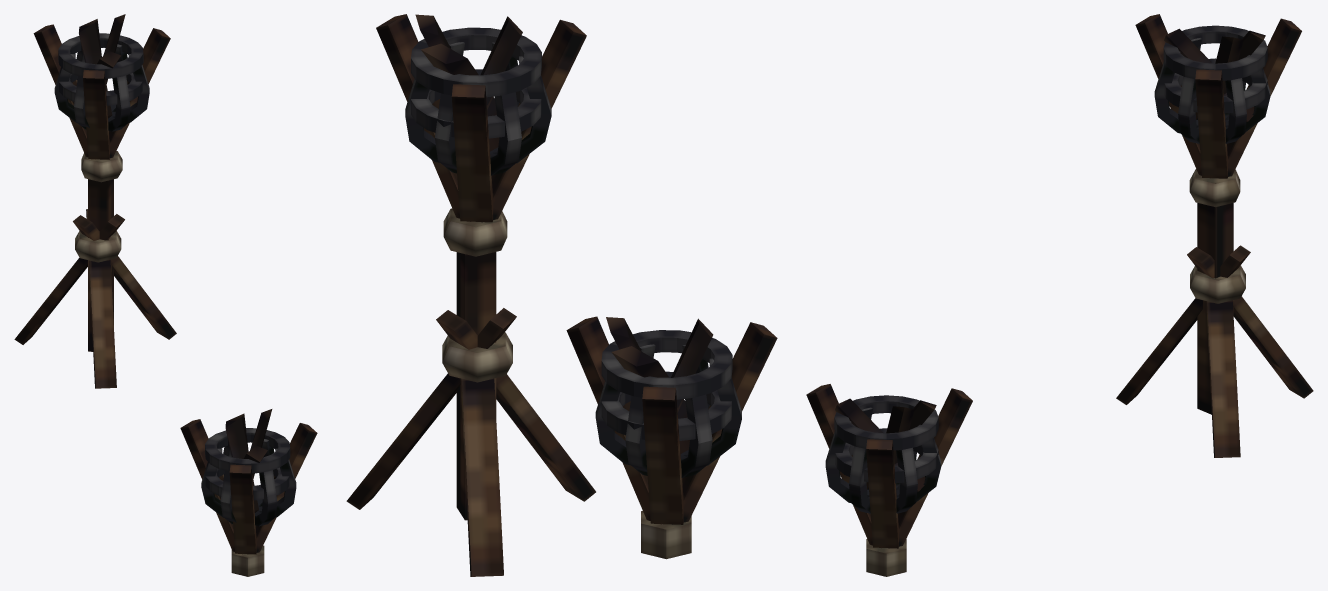
File: EnvObjMD_Torch_D.FBX
3 views of the same model, side by side, from view 1: azimuth 30°, elevation 25°; view 2: azimuth 150°, elevation 25°; view 3: azimuth 270°, elevation 25° (orthographic). The views are drawn at different scales.
Parts seen in each view (by area): view 1: EnvObjMD_Torch_D, EnvObjMD_Torch_D_Hang; view 2: EnvObjMD_Torch_D, EnvObjMD_Torch_D_Hang; view 3: EnvObjMD_Torch_D, EnvObjMD_Torch_D_Hang.
Part boxes in pixels (left/top/right/bottom): EnvObjMD_Torch_D: left=14, top=14, right=176, bottom=388; EnvObjMD_Torch_D_Hang: left=180, top=409, right=317, bottom=576; EnvObjMD_Torch_D: left=346, top=14, right=595, bottom=576; EnvObjMD_Torch_D_Hang: left=566, top=316, right=777, bottom=559; EnvObjMD_Torch_D: left=1116, top=14, right=1313, bottom=457; EnvObjMD_Torch_D_Hang: left=806, top=384, right=972, bottom=576.
Size of the model in its own units: 69.96 by 233 by 197.
